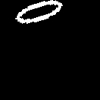chain: (16, 0, 61, 23)
